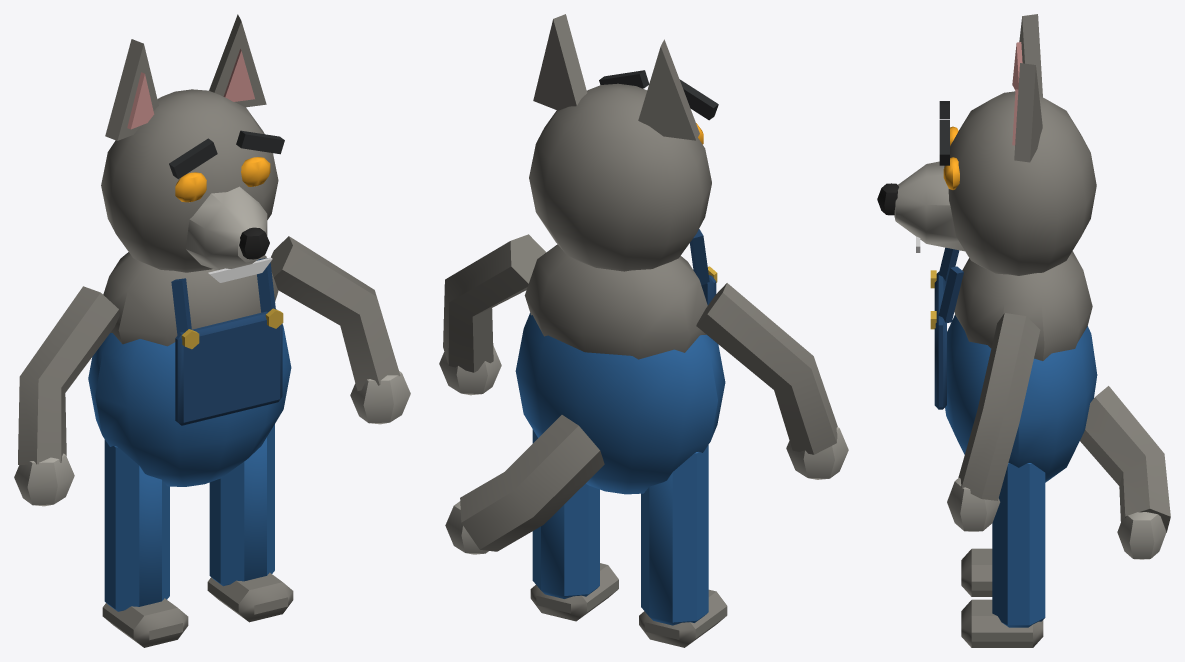
File: 110_loup_salopette.fbx
3 views of the same model, side by side, from view 1: azimuth 30°, elevation 25°; view 2: azimuth 150°, elevation 25°; view 3: azimuth 270°, elevation 25° (orthographic). The views are drawn at different scales.
Visible parts, largest first — view 1: Corps, Yeux; view 2: Corps; view 3: Corps, Yeux.
Part boxes in pixels (left/top/right/bottom): Corps: left=14, top=14, right=410, bottom=647; Yeux: left=175, top=157, right=270, bottom=202; Corps: left=439, top=14, right=848, bottom=647; Corps: left=877, top=14, right=1170, bottom=647; Yeux: left=943, top=126, right=959, bottom=189.
Size of the model in its own units: 0.504 by 0.728 by 0.336.
Materials: 1 (1 with a texture image).
